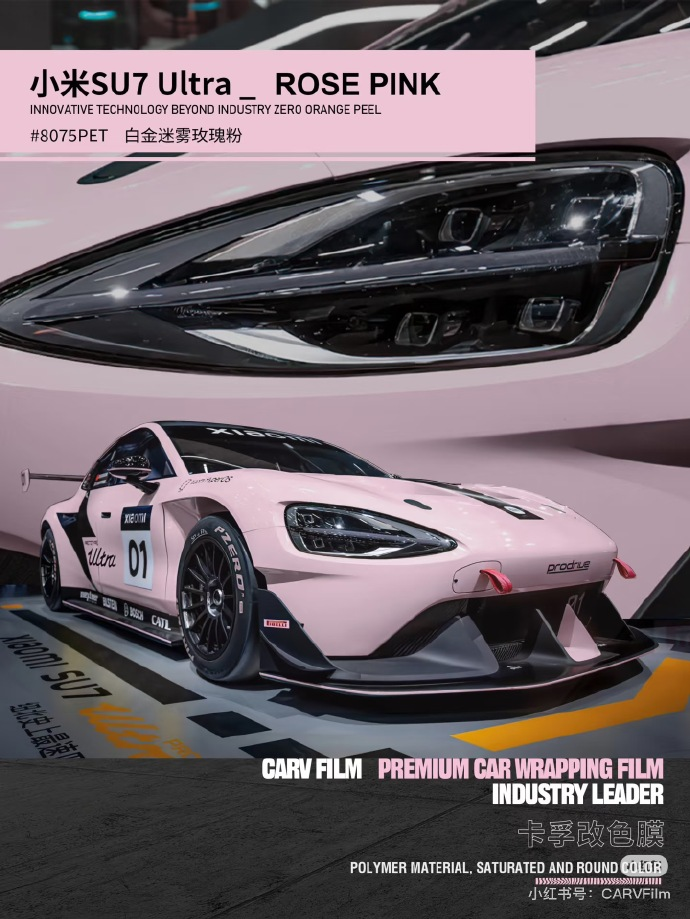su7: (25, 402, 653, 708)
